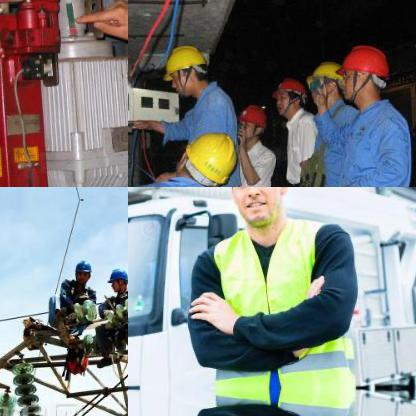Helmet: (177, 129, 238, 186), (338, 39, 390, 101), (158, 40, 210, 96), (217, 187, 291, 224), (270, 75, 308, 118), (310, 58, 342, 102), (237, 101, 266, 141), (106, 263, 127, 293), (72, 256, 92, 283)
